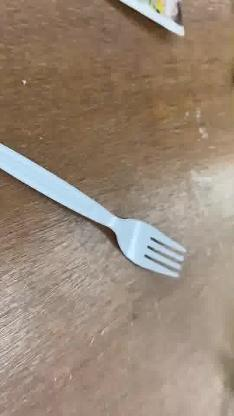Others: (0, 142, 190, 284)
